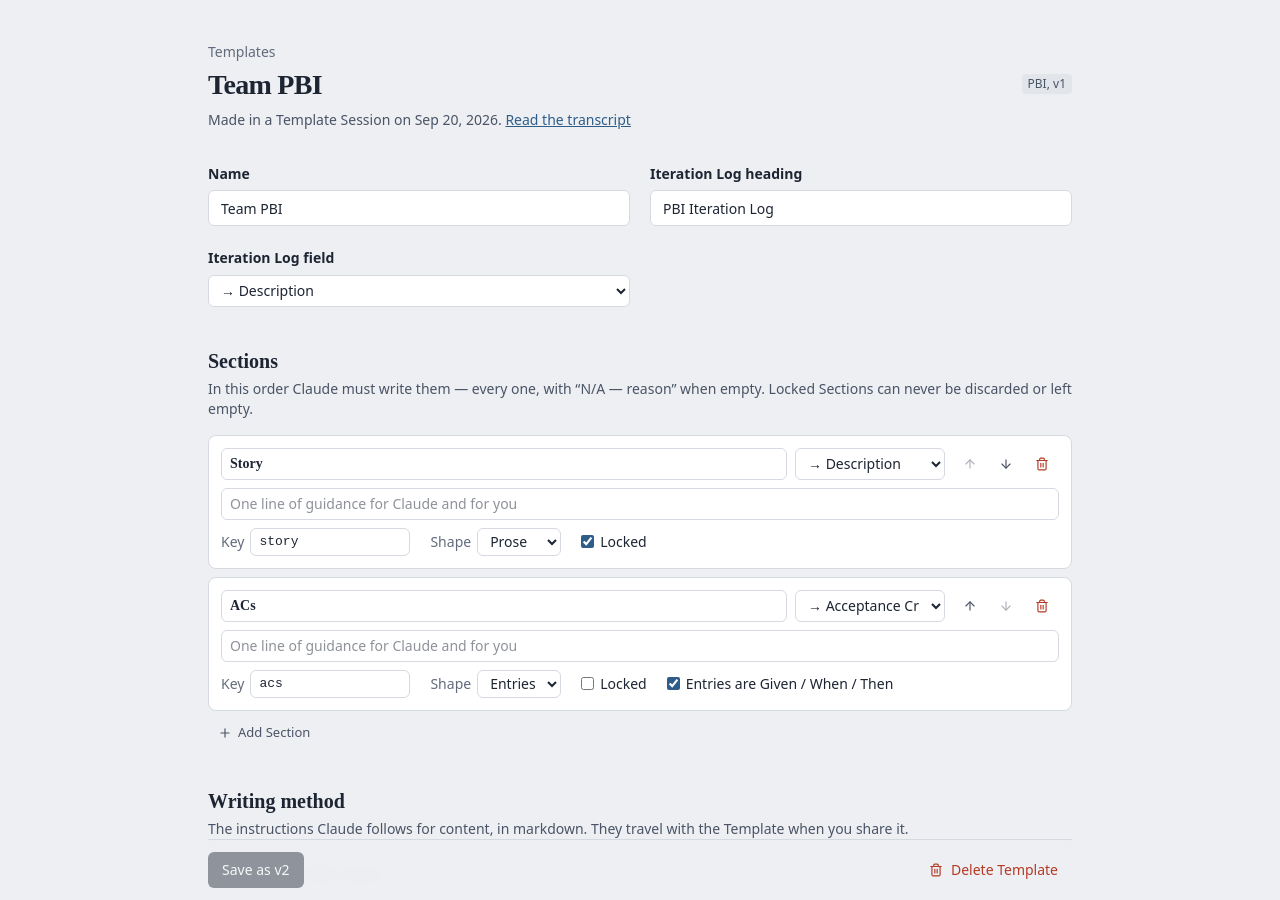
Test case: TemplateEditorPage › edits, reorders and adds Sections, then saves as the next version
The width and height of the screenshot is (1280, 900).
Expected: the button "Save as v2" is disabled, x1=208 y1=852 x2=304 y2=888
Click the 1st button named "Move down". click: x=1006, y=464
box: x1=989 y1=450 x2=1023 y2=478
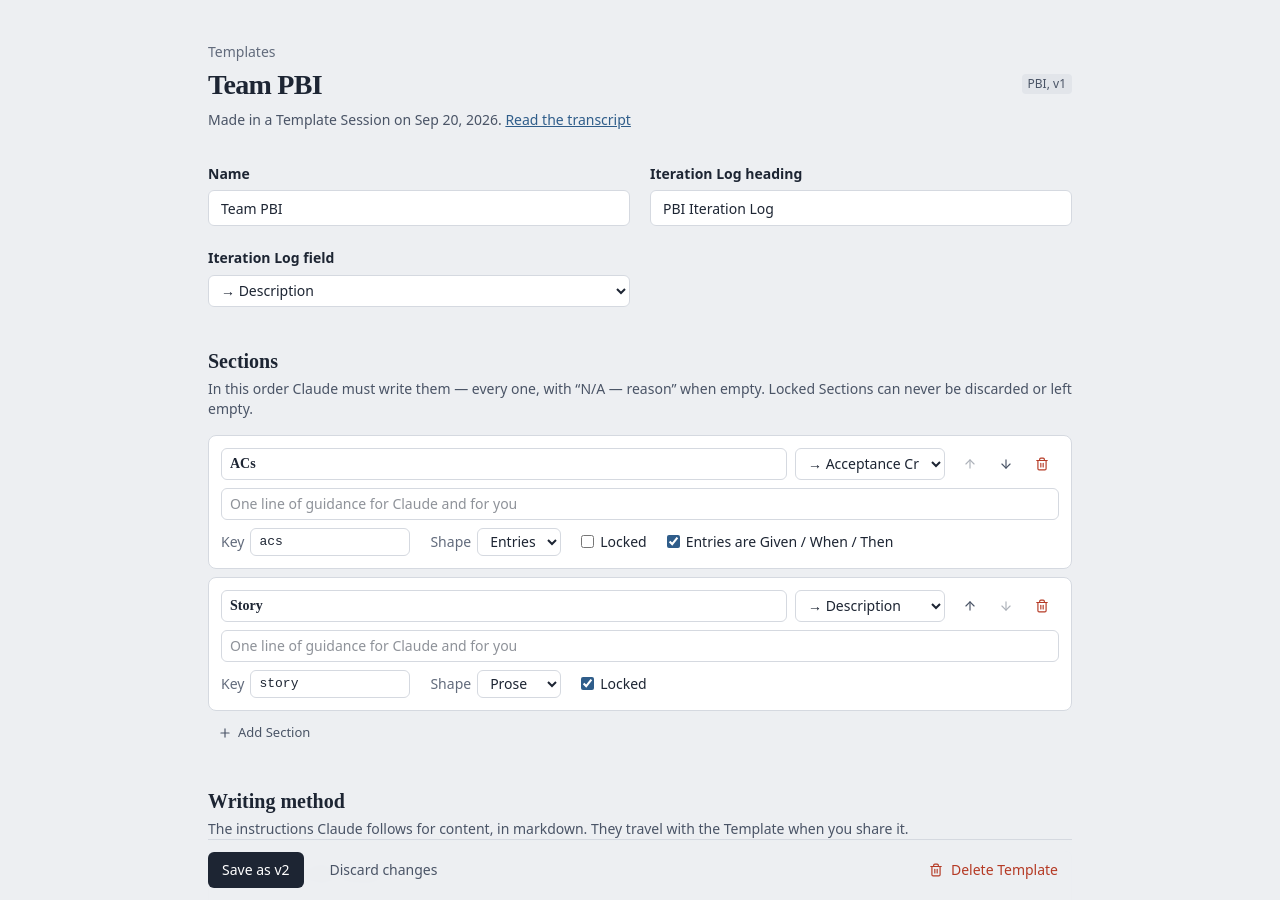
Click the button "Add Section". click: x=264, y=732
box: x1=208 y1=718 x2=320 y2=746
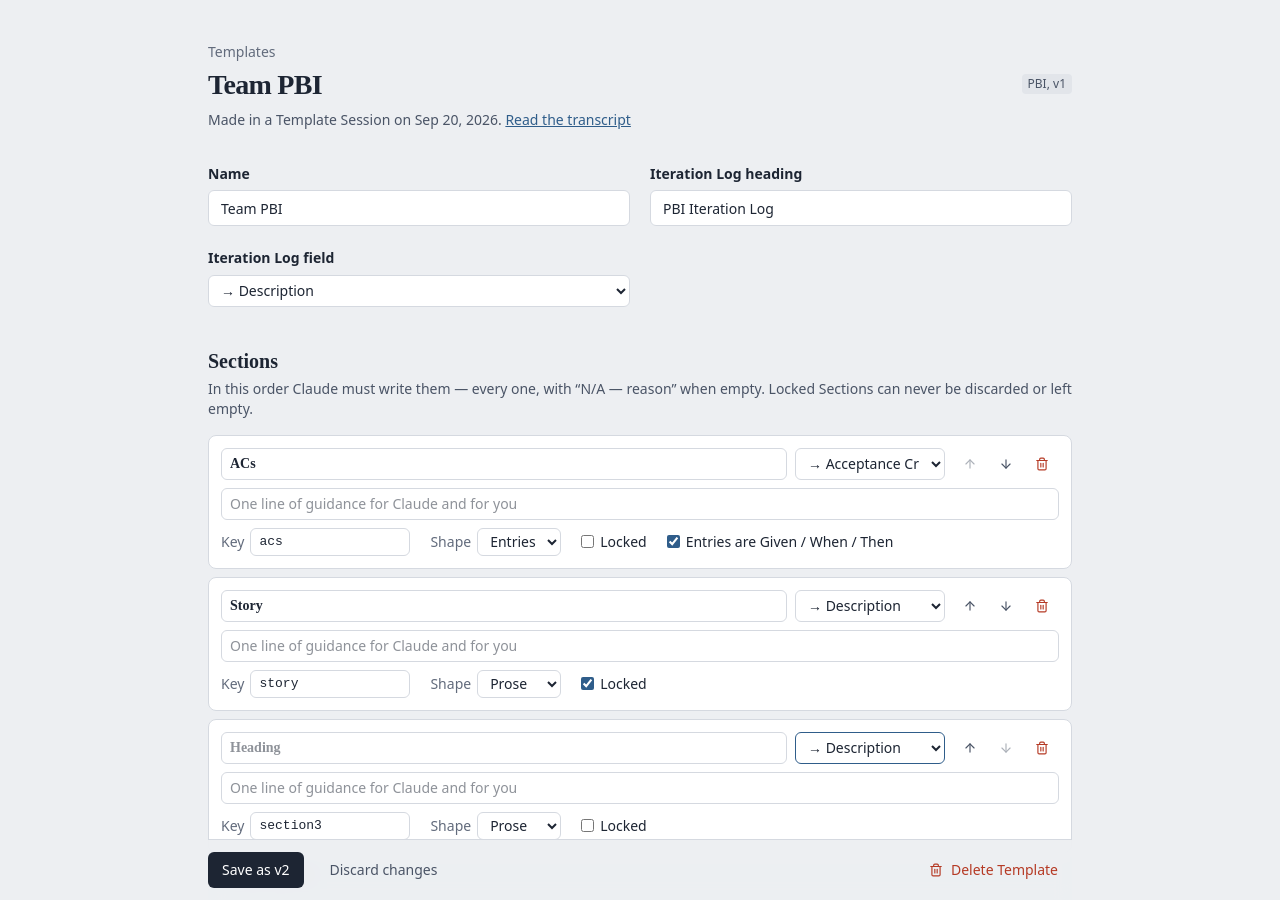
Type "Open questions!" into the field labelled "Heading". click: x=504, y=748
box: x1=221 y1=732 x2=787 y2=764
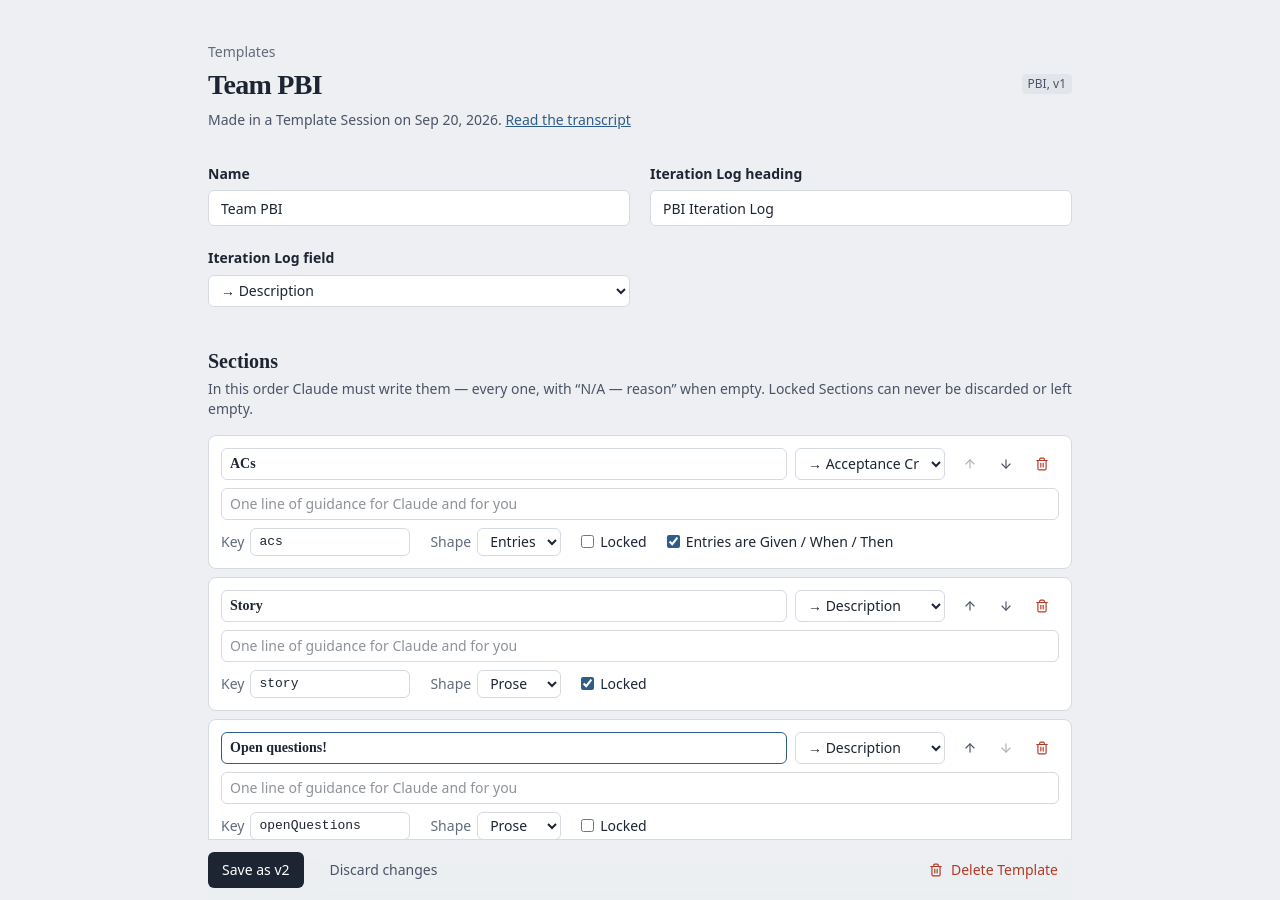
Now the 3rd field labelled "Key" holds "openQuestions", box x1=250 y1=812 x2=410 y2=840
Select "Entries" in the 3rd dropdown labelled "Shape". click: x=519, y=826
box: x1=477 y1=812 x2=561 y2=840
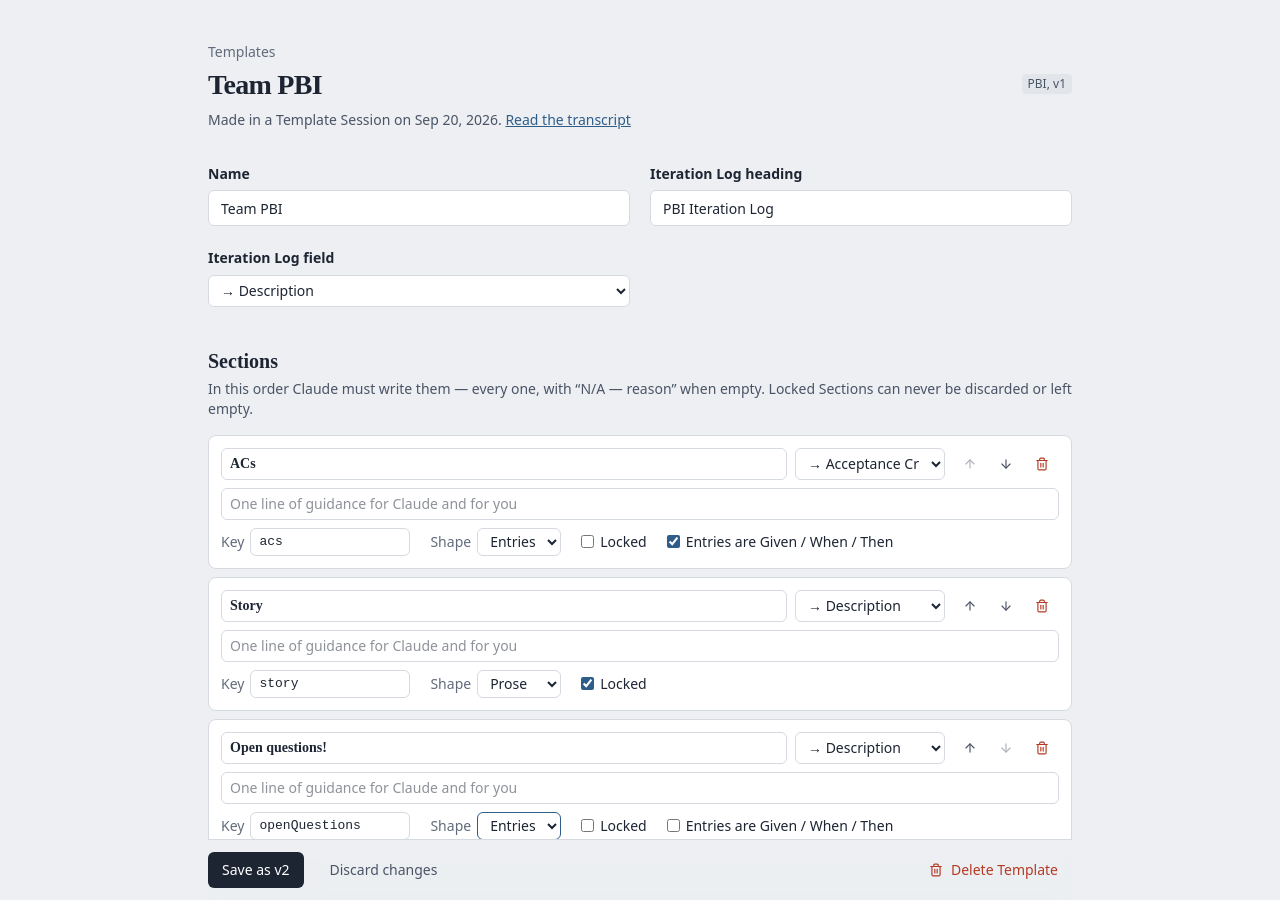
Click the 2nd checkbox labelled "Entries are Given / When / Then". click: x=673, y=826
box: x1=667 y1=819 x2=680 y2=832
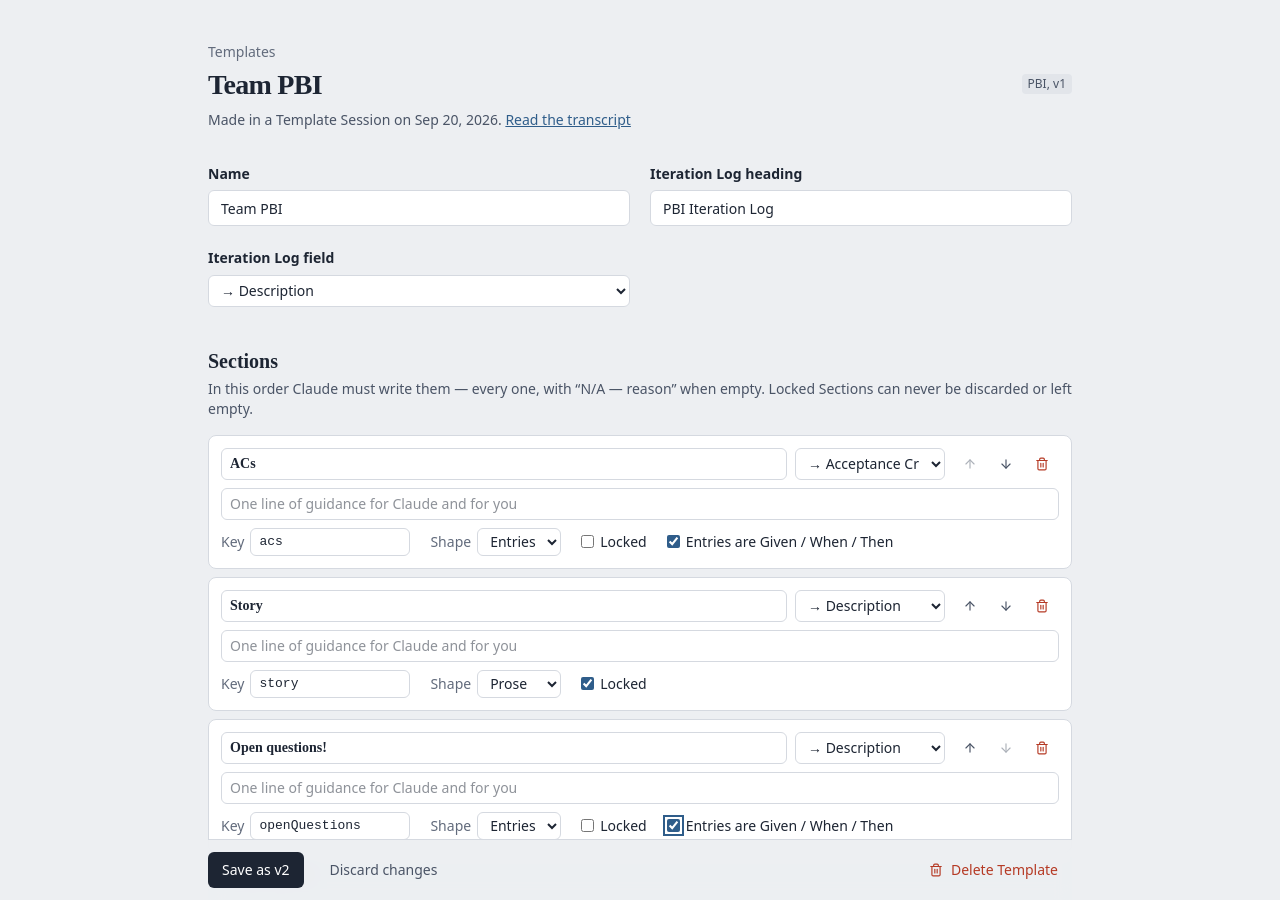
Click the button "Save as v2". click: x=256, y=870
box: x1=208 y1=852 x2=304 y2=888
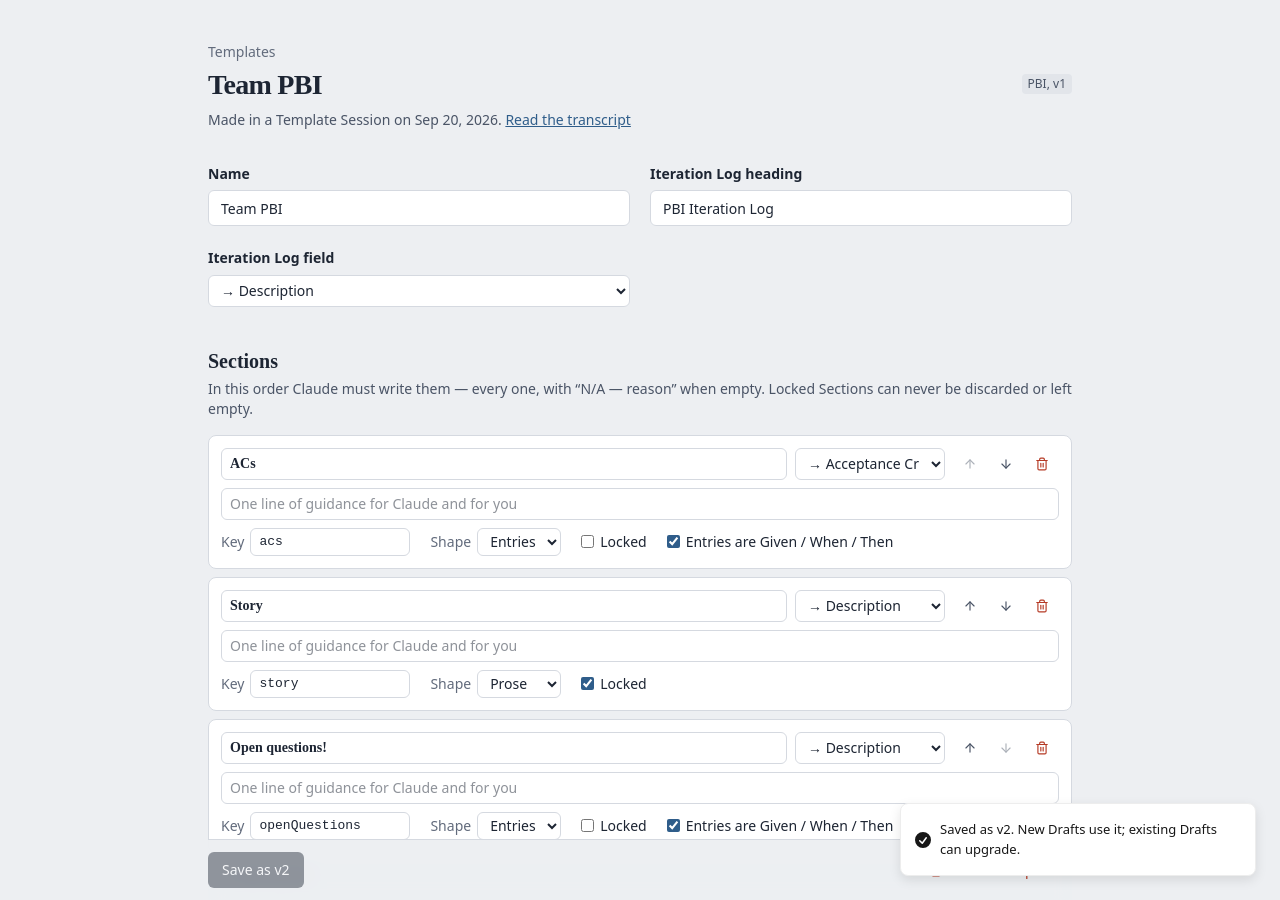
Now the text "Saved as v2. New Drafts use it; existing Drafts can upgrade." is shown, box x1=940 y1=820 x2=1239 y2=859
